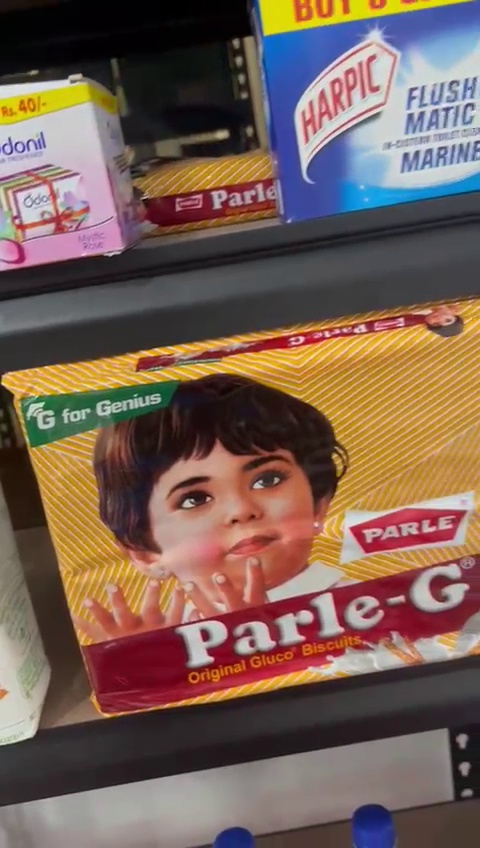Parle-G: (24, 369, 480, 664)
